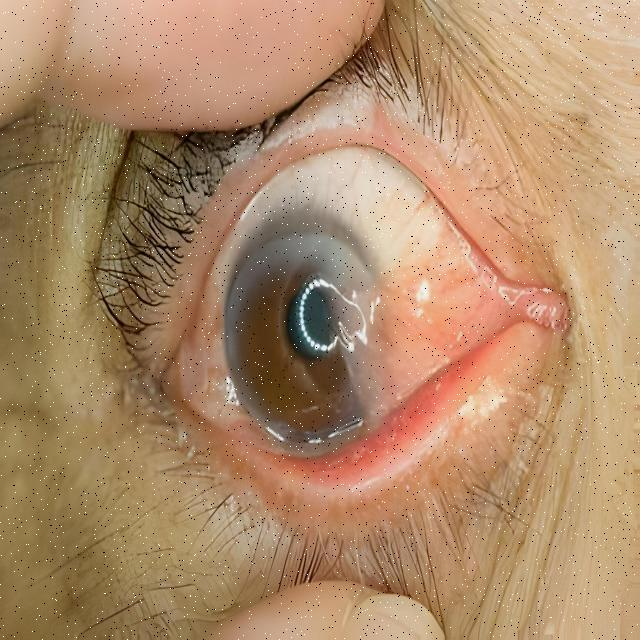Pterygium: (320, 216, 560, 416)
